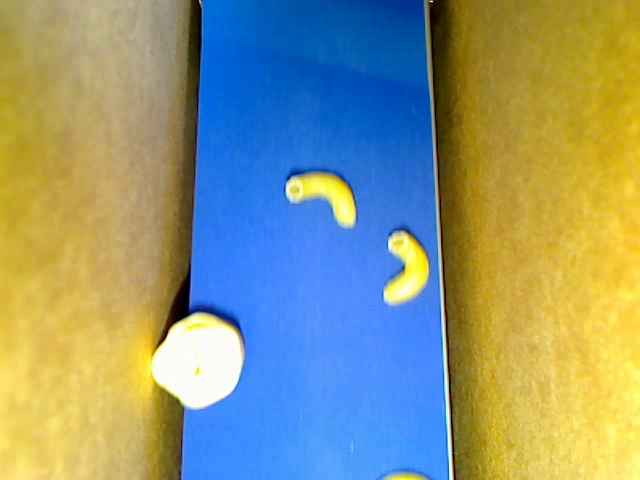elbow: (284, 170, 356, 228), (382, 231, 429, 305)
tortellini: (151, 313, 243, 411)
